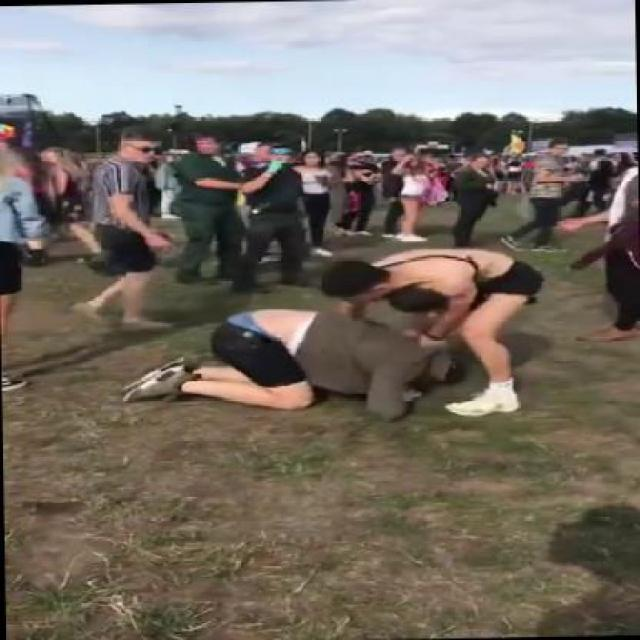fight: (137, 241, 543, 427)
